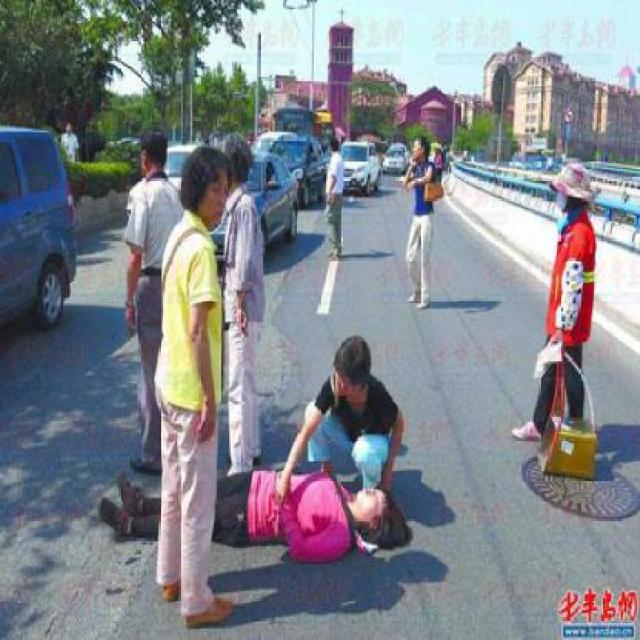fall: (77, 441, 411, 577)
